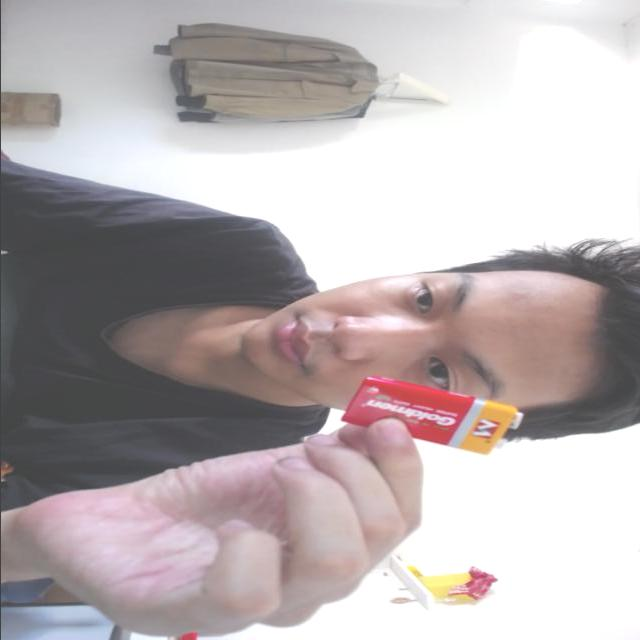9V: (320, 372, 538, 454)
